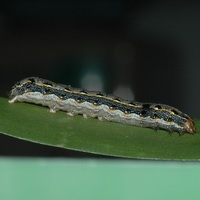insect: (8, 77, 195, 134)
